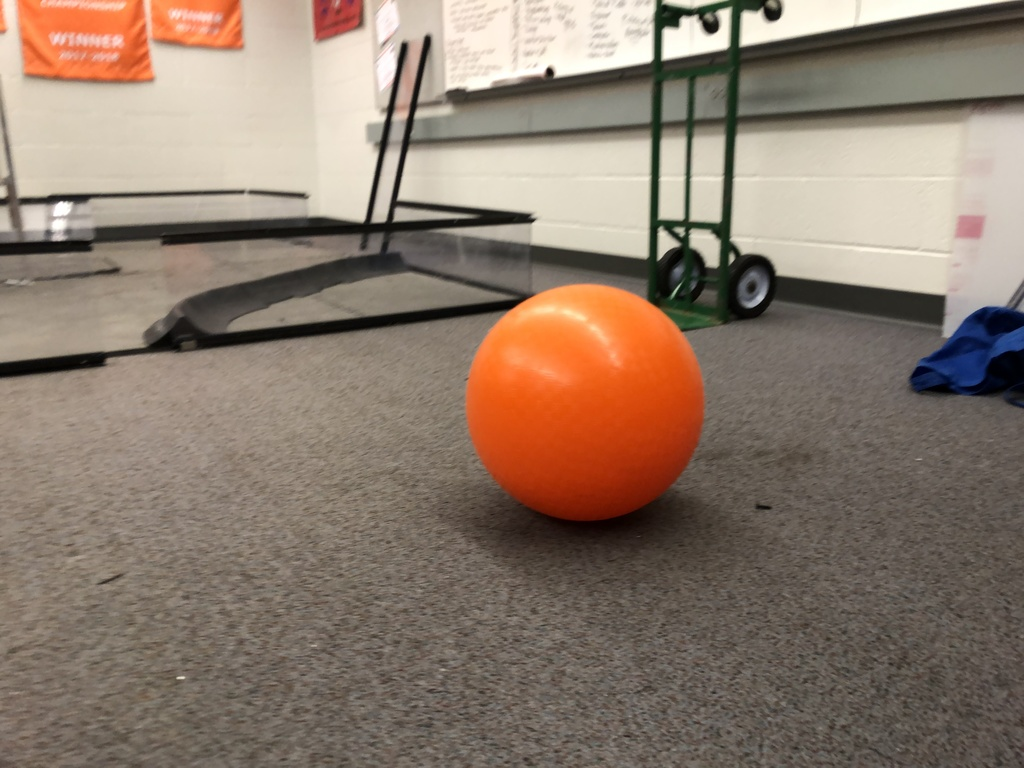cargo: (462, 273, 715, 530)
